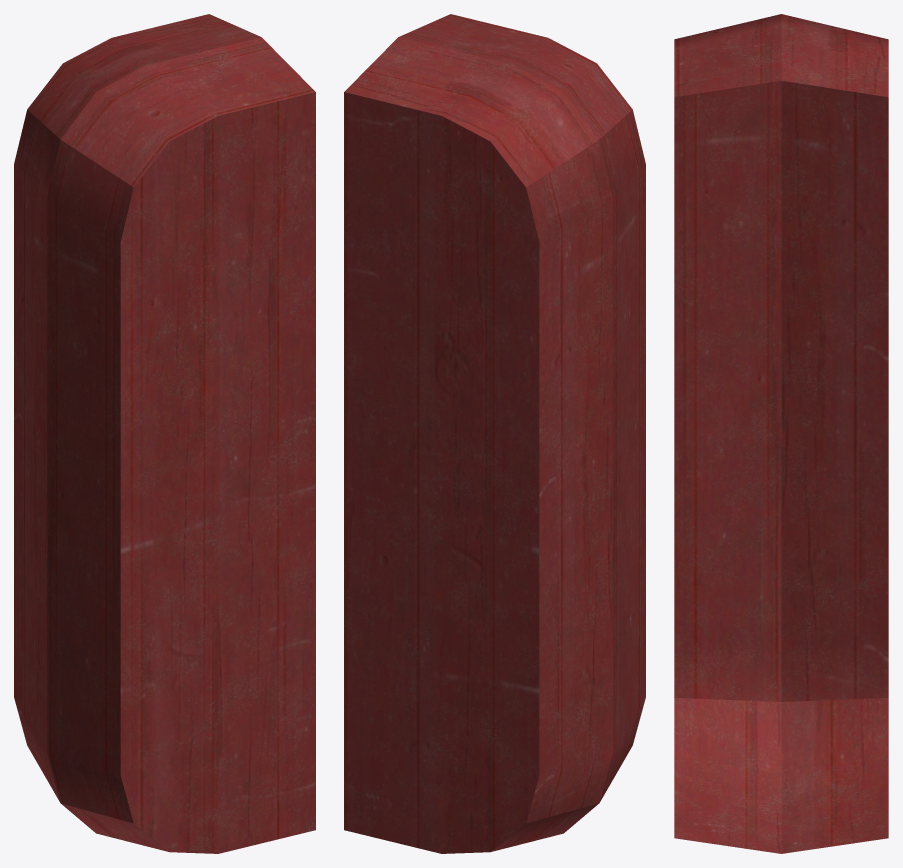
File: SM_D_Wood_5_1.fbx
The picture shows the model from 3 angles, left to right: view 1: azimuth 30°, elevation 25°; view 2: azimuth 150°, elevation 25°; view 3: azimuth 270°, elevation 25°; orthographic projection.
Visible parts, largest first — view 1: SM_D_Wood_5_1; view 2: SM_D_Wood_5_1; view 3: SM_D_Wood_5_1.
Part boxes in pixels (bbox=[...]): SM_D_Wood_5_1: bbox=[14, 14, 315, 853]; SM_D_Wood_5_1: bbox=[344, 14, 645, 853]; SM_D_Wood_5_1: bbox=[674, 14, 888, 853].
Bounding box in the file's own units: 11.99 × 10.29 × 41.02.
1 material, 1 textured.
